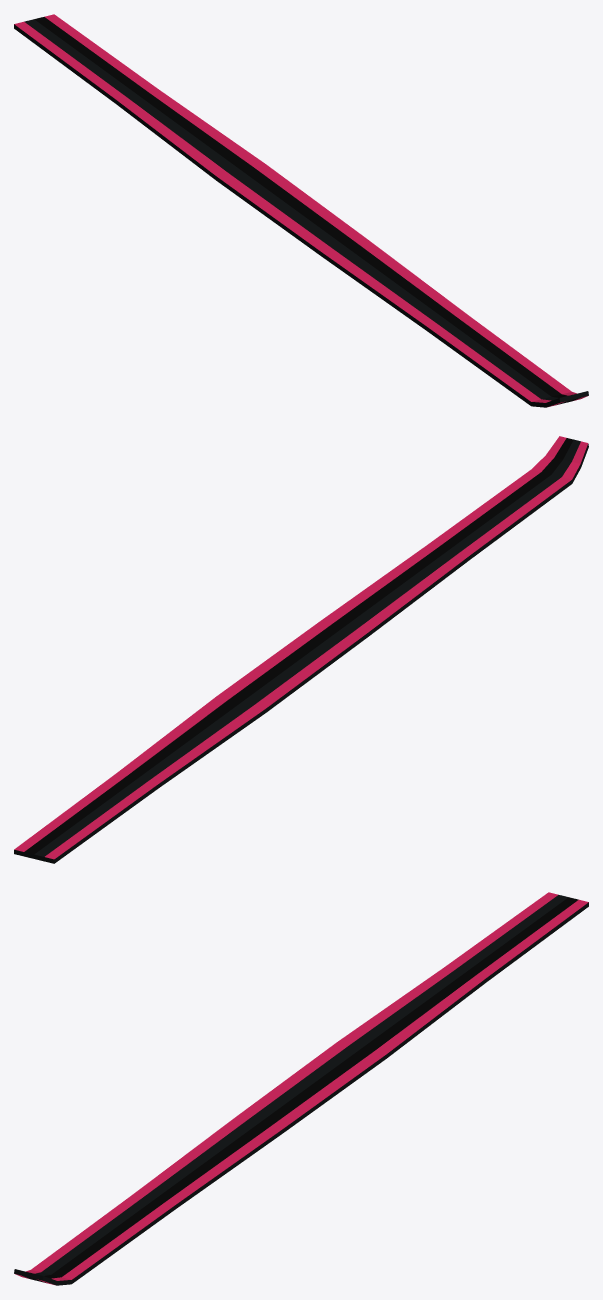
File: Skier_2_Ski_Left.fbx
The picture shows the model from 3 angles, top to bottom: view 1: azimuth 30°, elevation 25°; view 2: azimuth 150°, elevation 25°; view 3: azimuth 330°, elevation 25°; orthographic projection.
Parts seen in each view (by area): view 1: Skier_2_Ski_Left; view 2: Skier_2_Ski_Left; view 3: Skier_2_Ski_Left.
Boxes of the visible parts, x1,y1,x2,y2 form: Skier_2_Ski_Left: [14, 14, 588, 407]; Skier_2_Ski_Left: [14, 436, 588, 863]; Skier_2_Ski_Left: [14, 892, 588, 1285].
Bounding box in the file's own units: 11.33 × 5.29 × 214.
